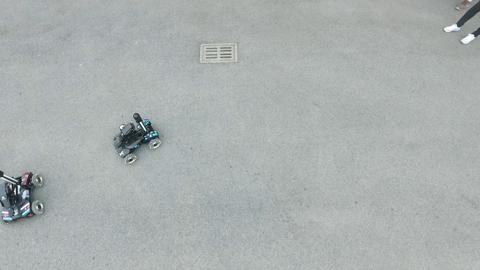chariot: (111, 109, 160, 164), (1, 167, 47, 224)
